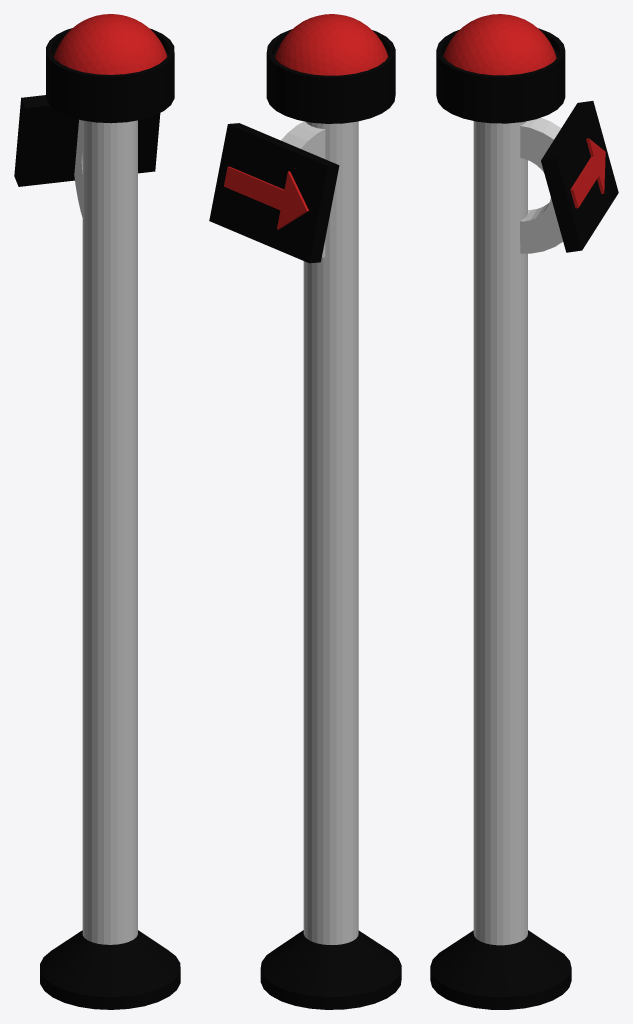
Rendered from RightSupport.obj.
3 views of the same model, side by side, from view 1: azimuth 30°, elevation 25°; view 2: azimuth 150°, elevation 25°; view 3: azimuth 270°, elevation 25° (orthographic).
Visible parts, largest first — view 1: Support, RightArrow, Button, Arch; view 2: Support, RightArrow, Button, Arch; view 3: Support, RightArrow, Button, Arch.
Part boxes in pixels (box(x1,y1,x2,y2)): Support: box(40, 28, 180, 1009); RightArrow: box(14, 95, 160, 186); Button: box(54, 14, 167, 74); Arch: box(74, 119, 82, 217); Support: box(260, 29, 401, 1009); RightArrow: box(209, 123, 339, 263); Button: box(275, 14, 387, 75); Arch: box(281, 121, 325, 257); Support: box(430, 28, 571, 1009); RightArrow: box(541, 101, 618, 252); Button: box(443, 14, 556, 75); Arch: box(520, 117, 562, 253).
Bounding box in the file's own units: 0.2509 × 1.62 × 0.2879.
